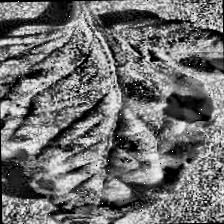disease: (0, 12, 224, 224)
